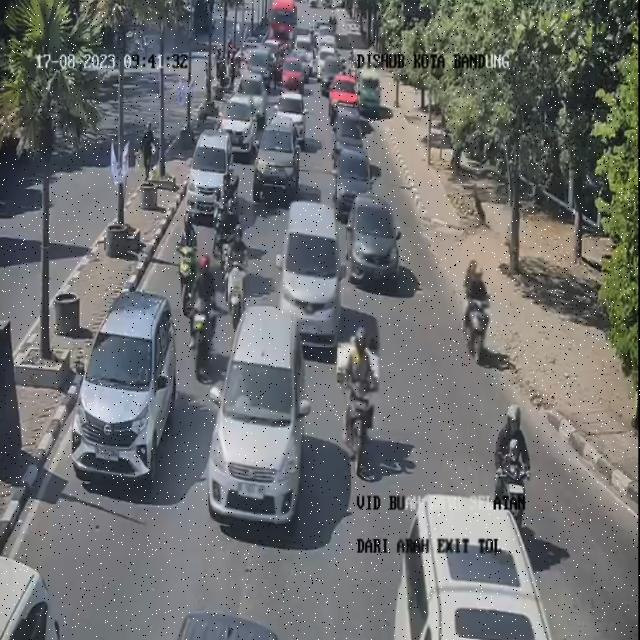cars: (398, 490, 557, 638), (210, 307, 307, 521), (75, 286, 175, 479), (278, 198, 341, 347), (137, 611, 291, 640), (348, 190, 396, 283), (188, 130, 232, 220), (259, 111, 296, 198), (334, 108, 368, 177), (338, 142, 370, 214), (228, 86, 257, 152), (280, 90, 308, 141), (242, 72, 269, 117), (249, 43, 273, 85), (283, 50, 304, 94), (320, 49, 340, 92), (320, 25, 338, 48), (297, 35, 313, 60), (317, 32, 334, 52)
motorcycle: (488, 399, 531, 550), (341, 320, 383, 462), (191, 249, 219, 380), (463, 257, 494, 363), (177, 207, 200, 317), (228, 224, 252, 317)
truck: (329, 72, 360, 124), (360, 62, 386, 119), (268, 0, 297, 44)
